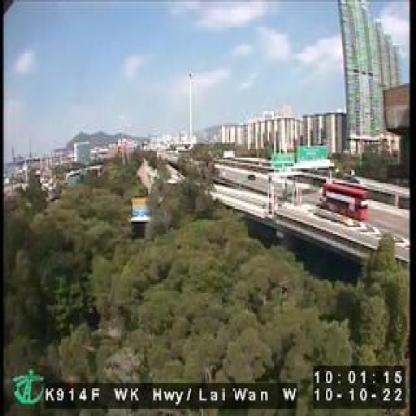Bus: (321, 179, 368, 221)
